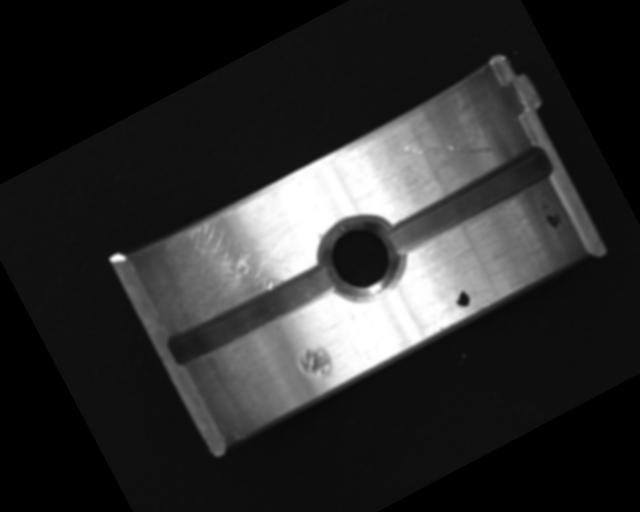blot: (536, 196, 565, 232), (449, 284, 472, 310)
bruise: (294, 340, 339, 389)
gap: (163, 252, 345, 372), (380, 142, 560, 262)
hole: (305, 198, 420, 315)
nick: (400, 108, 496, 189)
scratch: (136, 179, 322, 337)
